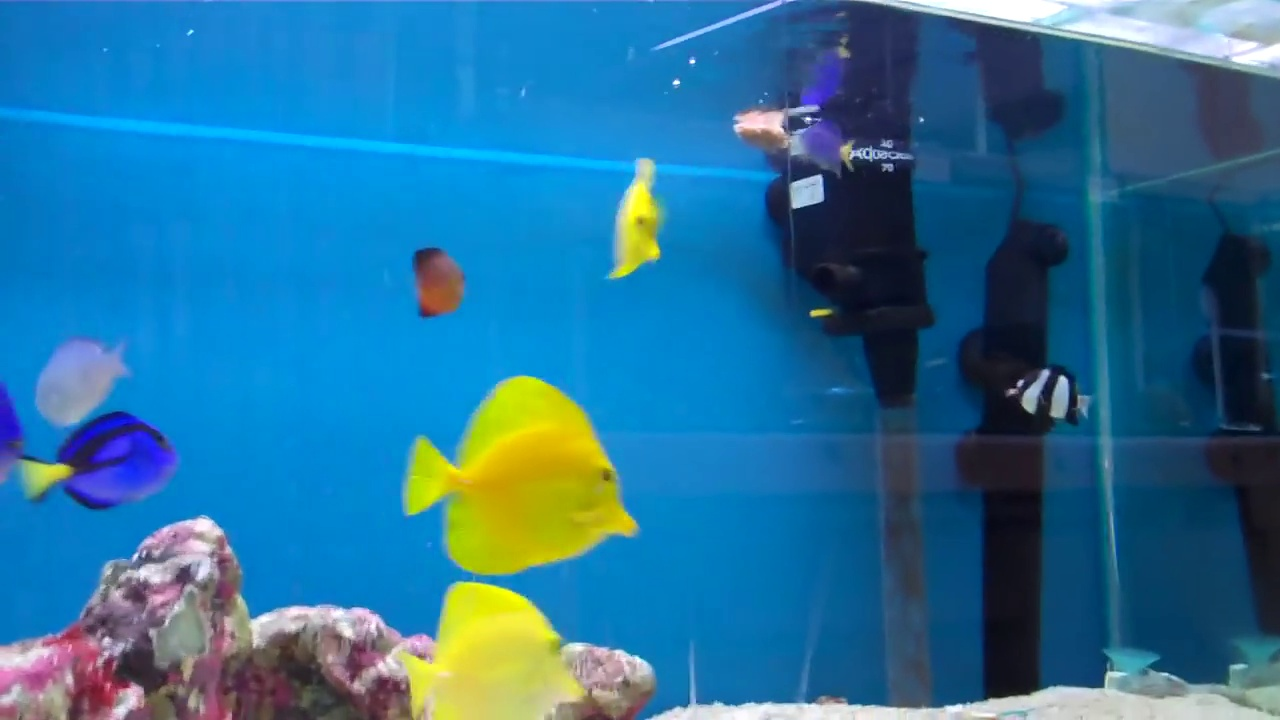blue tang surgeonfish: (14, 412, 191, 518)
saddle butterfly fish: (397, 358, 642, 563), (371, 587, 586, 720), (583, 157, 690, 284)
